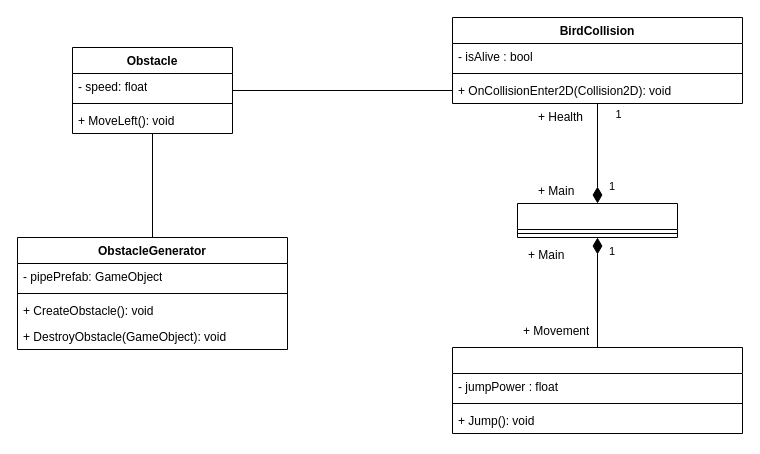
Some shapes in this 760 by 454 pixel diagram are drawn without their labels. The shapes that lost their labels are listed below. From the top down, each one's box as (x1, y1, x2, y2) in pixels, then its label:
(516, 202, 678, 238): BirdMain
(452, 346, 742, 434): BirdMovement
